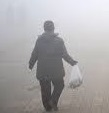person: (29, 20, 78, 111)
